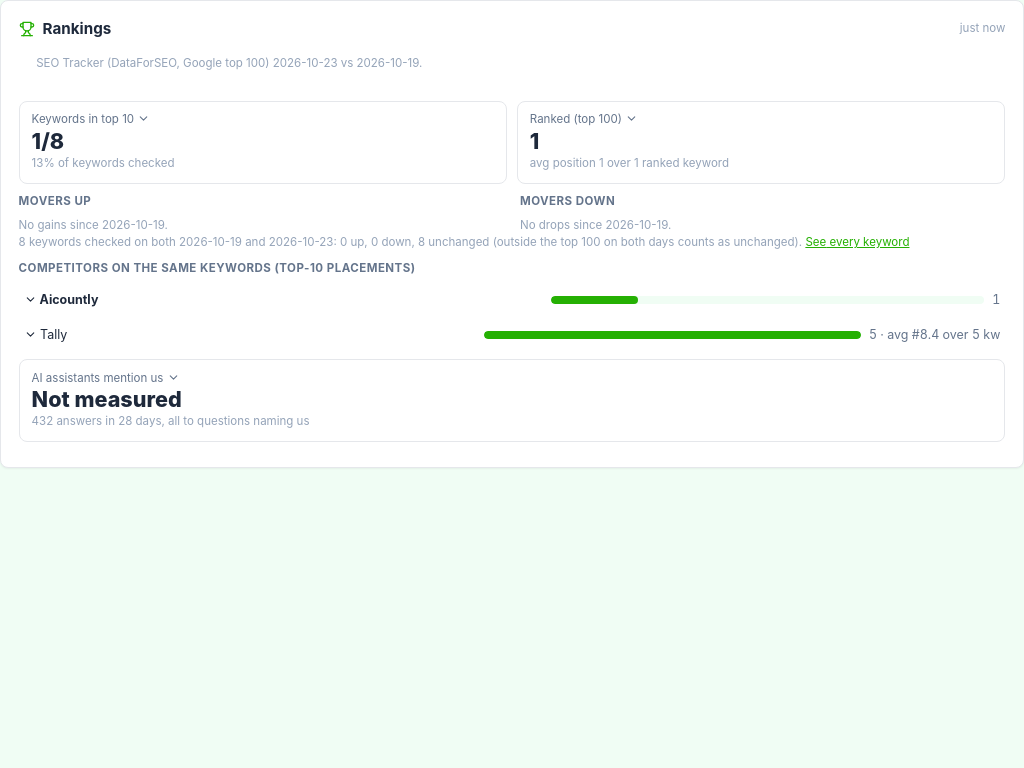
Rankings › reports a failed drill-down instead of an empty table
Click the button "Keywords in top 10 1/8 13% of keywords checked": point(84, 119) 19,101 -> 507,184
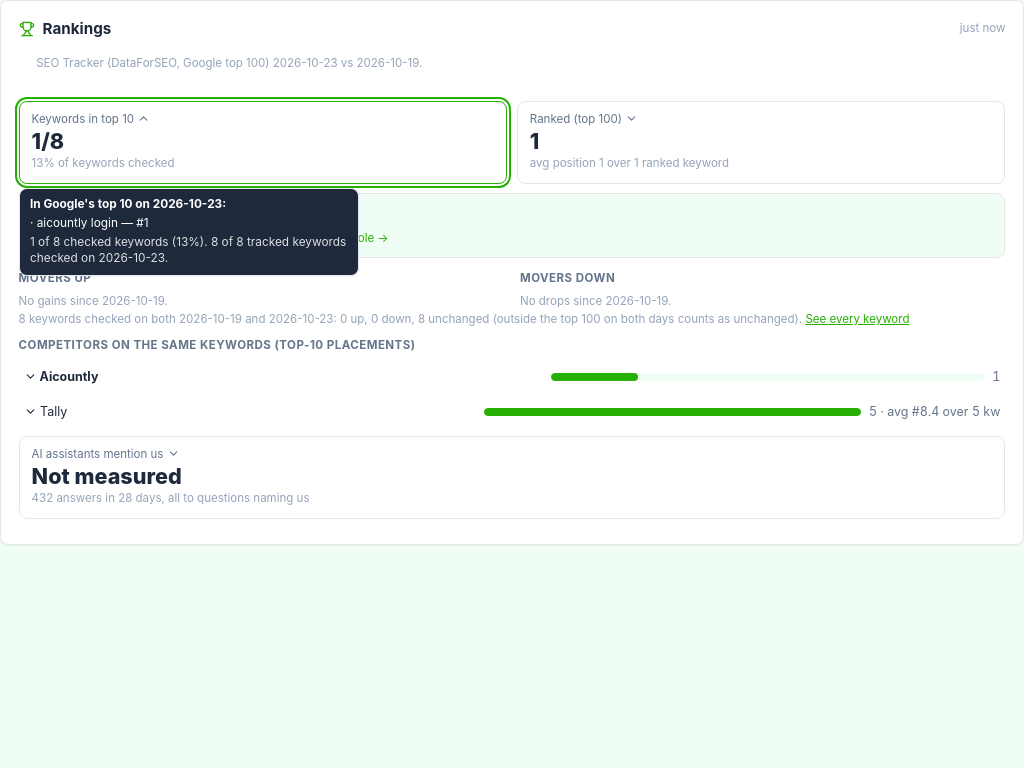
Expected: the message reads "Could not load the detail: HTTP 500", 31,205 -> 225,219
